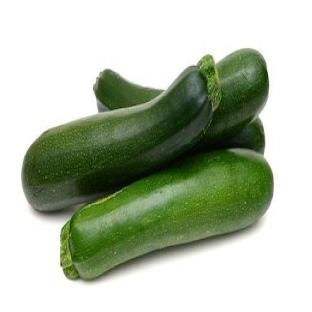Zucchini: (22, 56, 220, 211), (61, 149, 273, 278), (198, 50, 269, 149), (210, 118, 265, 154)
